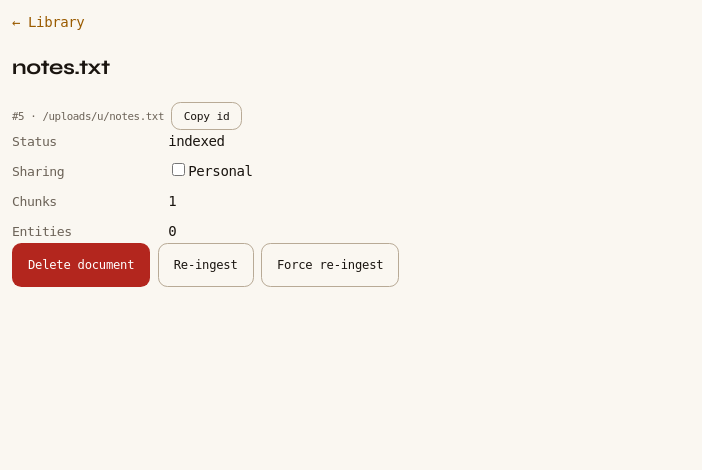
Test: DocumentDetailView › shows graph-specific error message on graph arm failure
Click the button "Delete document": coordinates (81, 265) [12,243,150,287]
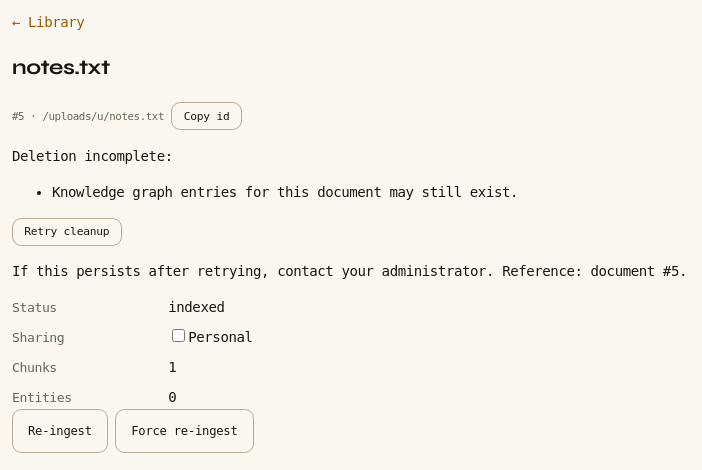
Expected: the list item "Knowledge graph entries for this document may still exist." is shown, [52,184,518,200]
